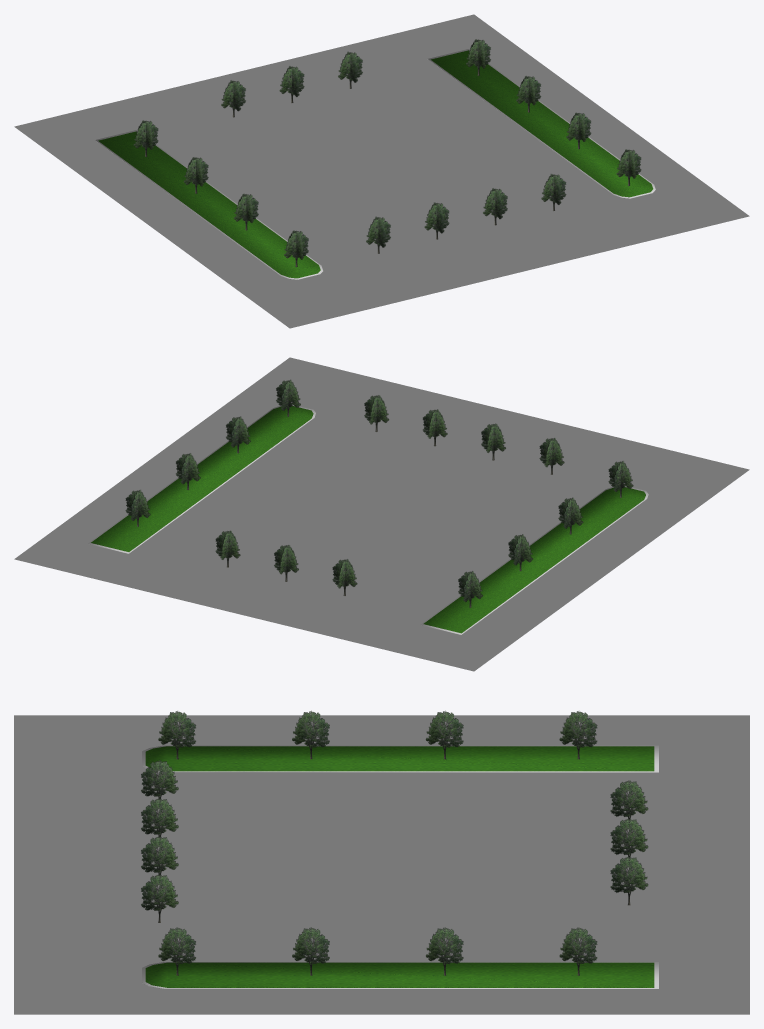
File: shvc_0f_mini.gltf
The picture shows the model from 3 angles, top to bottom: view 1: azimuth 30°, elevation 25°; view 2: azimuth 150°, elevation 25°; view 3: azimuth 270°, elevation 25°; orthographic projection. The views are drawn at different scales.
Visible parts, largest first — view 1: dimian, dimian_25, dimian_33, dimian_28, dimian_21; view 2: dimian, dimian_33, dimian_25, dimian_28, dimian_21; view 3: dimian, dimian_33, dimian_25, dimian_21, dimian_28, dimian_3, dimian_19, dimian_9, dimian_12, dimian_15, dimian_26, dimian_10 (+8 smaller).
Boxes of the visible parts, x1=… form: dimian: x1=14, y1=14, x2=749, y2=328; dimian_25: x1=98, y1=131, x2=320, y2=278; dimian_33: x1=431, y1=50, x2=653, y2=197; dimian_28: x1=428, y1=49, x2=655, y2=198; dimian_21: x1=95, y1=130, x2=322, y2=279; dimian: x1=14, y1=357, x2=749, y2=671; dimian_33: x1=91, y1=406, x2=313, y2=551; dimian_25: x1=423, y1=487, x2=645, y2=633; dimian_28: x1=88, y1=404, x2=315, y2=553; dimian_21: x1=420, y1=486, x2=648, y2=634; dimian: x1=14, y1=715, x2=749, y2=1014; dimian_33: x1=145, y1=962, x2=654, y2=987; dimian_25: x1=145, y1=746, x2=654, y2=771; dimian_21: x1=142, y1=745, x2=658, y2=772; dimian_28: x1=142, y1=962, x2=658, y2=988; dimian_3: x1=158, y1=711, x2=196, y2=759; dimian_19: x1=158, y1=927, x2=195, y2=975; dimian_9: x1=559, y1=927, x2=597, y2=975; dimian_12: x1=610, y1=856, x2=648, y2=905; dimian_15: x1=559, y1=711, x2=597, y2=759; dimian_26: x1=141, y1=874, x2=178, y2=922; dimian_10: x1=425, y1=710, x2=463, y2=759.
Size of the model in its own units: 250 by 20.64 by 259.
Materials: 4 (2 with a texture image).
